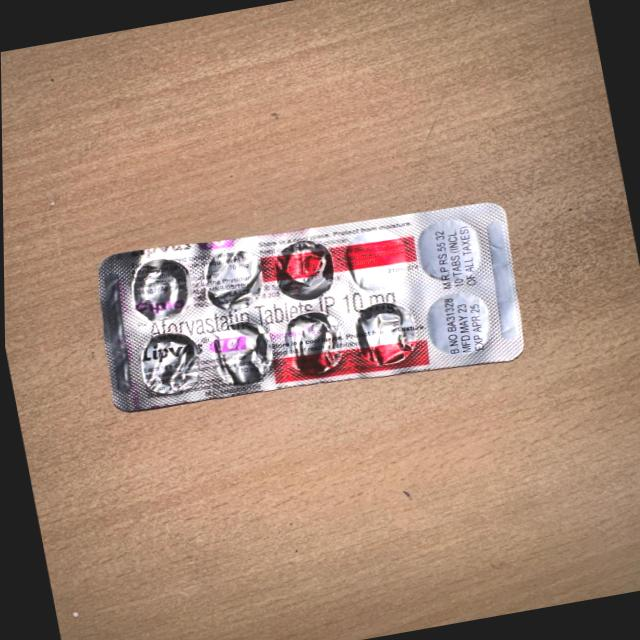medicine: (88, 184, 538, 425)
